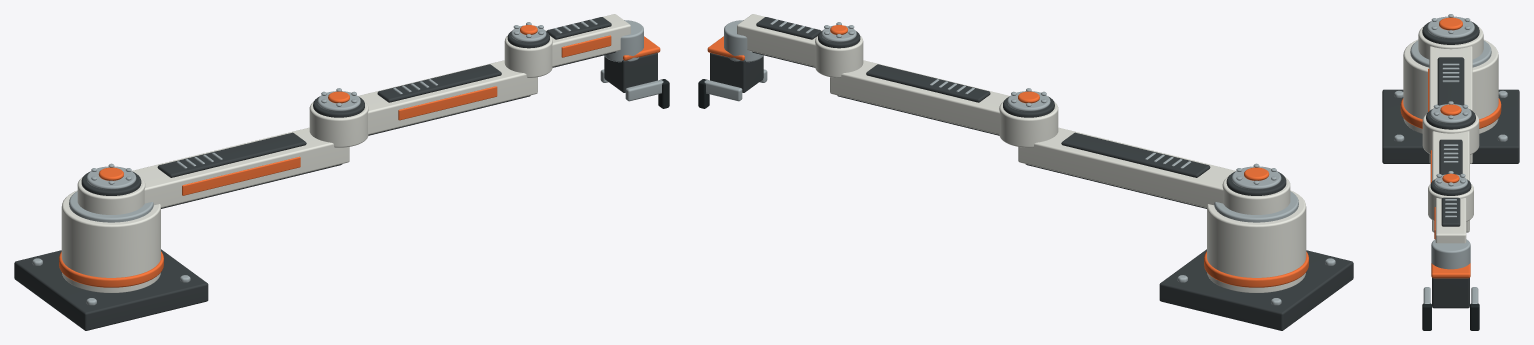
Rendered from axis-arm.glb.
3 views of the same model, side by side, from view 1: azimuth 30°, elevation 25°; view 2: azimuth 150°, elevation 25°; view 3: azimuth 270°, elevation 25° (orthographic). The views are drawn at different scales.
Visible parts, largest first — view 1: Mount, Pedestal, Link1Shell, Link2Shell, Link1TopPanel, Joint2Housing, Link3Shell, Link2TopPanel, GripperHousing, Joint1Housing, Joint3Housing, Link1Stripe (+10 smaller); view 2: Mount, Pedestal, Link1Shell, Link2Shell, Link1TopPanel, Link3Shell, Joint2Housing, Link2TopPanel, GripperHousing, Joint1Housing, Joint3Housing, BaseRing (+7 smaller); view 3: Mount, Pedestal, Link1Shell, Link1TopPanel, GripperHousing, ToolFlange, Link2Shell, Link3Shell, Joint2Housing, Link2TopPanel, Joint1Housing, Joint3Housing (+17 smaller).
Part boxes in pixels (left/top/right/bottom): Mount: left=14, top=249, right=208, bottom=330; Pedestal: left=61, top=190, right=160, bottom=292; Link1Shell: left=132, top=127, right=349, bottom=207; Link2Shell: left=358, top=60, right=537, bottom=134; Link1TopPanel: left=157, top=132, right=306, bottom=177; Joint2Housing: left=309, top=101, right=368, bottom=147; Link3Shell: left=546, top=14, right=630, bottom=66; Link2TopPanel: left=377, top=64, right=501, bottom=102; GripperHousing: left=604, top=53, right=657, bottom=92; Joint1Housing: left=77, top=177, right=145, bottom=214; Joint3Housing: left=504, top=35, right=552, bottom=77; Link1Stripe: left=182, top=156, right=300, bottom=195; Mount: left=1159, top=249, right=1353, bottom=330; Pedestal: left=1207, top=190, right=1306, bottom=292; Link1Shell: left=1018, top=127, right=1235, bottom=207; Link2Shell: left=830, top=60, right=1009, bottom=134; Link1TopPanel: left=1061, top=132, right=1210, bottom=177; Link3Shell: left=737, top=14, right=821, bottom=66; Joint2Housing: left=999, top=101, right=1058, bottom=147; Link2TopPanel: left=866, top=64, right=990, bottom=102; GripperHousing: left=710, top=53, right=763, bottom=92; Joint1Housing: left=1222, top=177, right=1290, bottom=214; Joint3Housing: left=815, top=35, right=863, bottom=77; BaseRing: left=1204, top=251, right=1308, bottom=287; Mount: left=1382, top=89, right=1519, bottom=163; Pedestal: left=1403, top=39, right=1498, bottom=133; Link1Shell: left=1429, top=46, right=1472, bottom=163; Link1TopPanel: left=1437, top=57, right=1464, bottom=105; GripperHousing: left=1432, top=278, right=1469, bottom=308; ToolFlange: left=1431, top=239, right=1470, bottom=269; Link2Shell: left=1432, top=131, right=1469, bottom=232; Link3Shell: left=1435, top=198, right=1466, bottom=243; Joint2Housing: left=1422, top=114, right=1479, bottom=154; Link2TopPanel: left=1439, top=139, right=1462, bottom=174; Joint1Housing: left=1418, top=26, right=1483, bottom=59; Joint3Housing: left=1428, top=184, right=1473, bottom=221.
Size of the model in its own units: 479 by 122 by 98.
